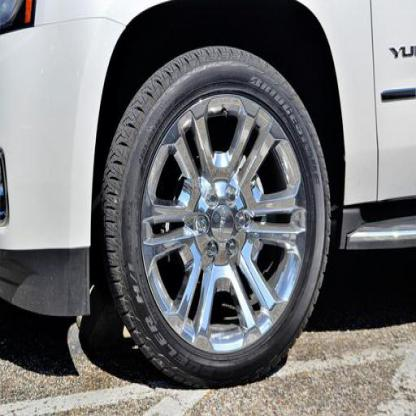Tire: (99, 44, 332, 388)
